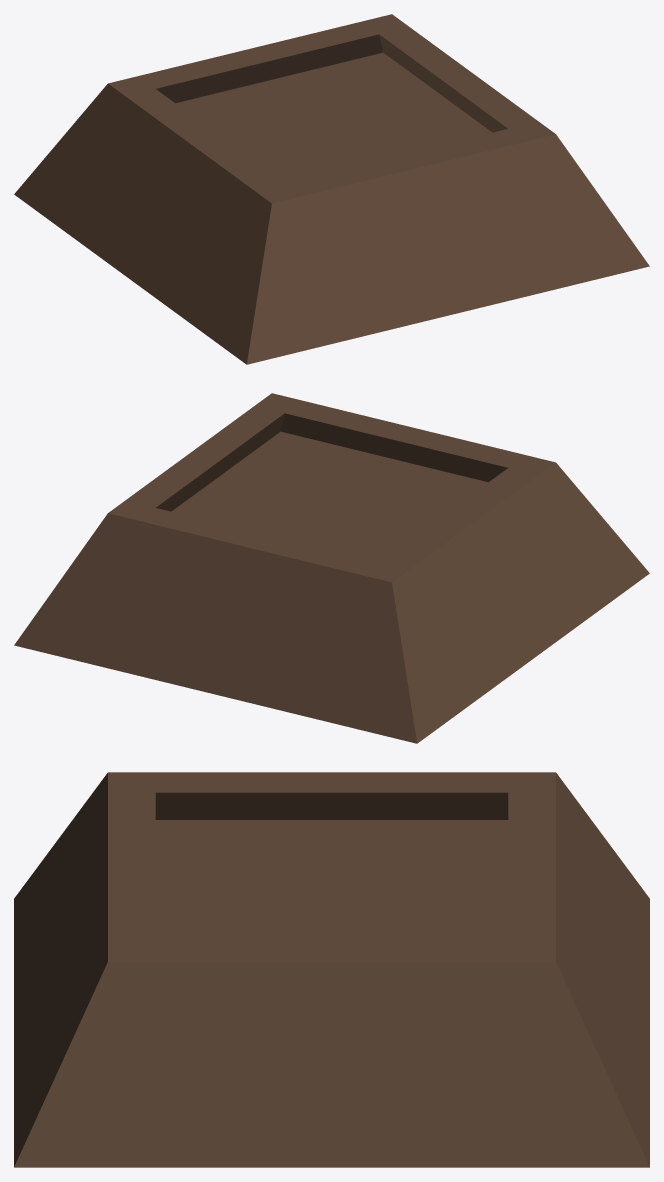
File: Grocery Fruit Holder.fbx
The picture shows the model from 3 angles, top to bottom: view 1: azimuth 30°, elevation 25°; view 2: azimuth 150°, elevation 25°; view 3: azimuth 270°, elevation 25°; orthographic projection. The views are drawn at different scales.
Visible parts, largest first — view 1: Plane.058; view 2: Plane.058; view 3: Plane.058.
Part boxes in pixels (left/top/right/bottom): Plane.058: left=14, top=14, right=649, bottom=364; Plane.058: left=14, top=393, right=649, bottom=743; Plane.058: left=14, top=772, right=649, bottom=1167.
Bounding box in the file's own units: 600 × 173 × 600.
